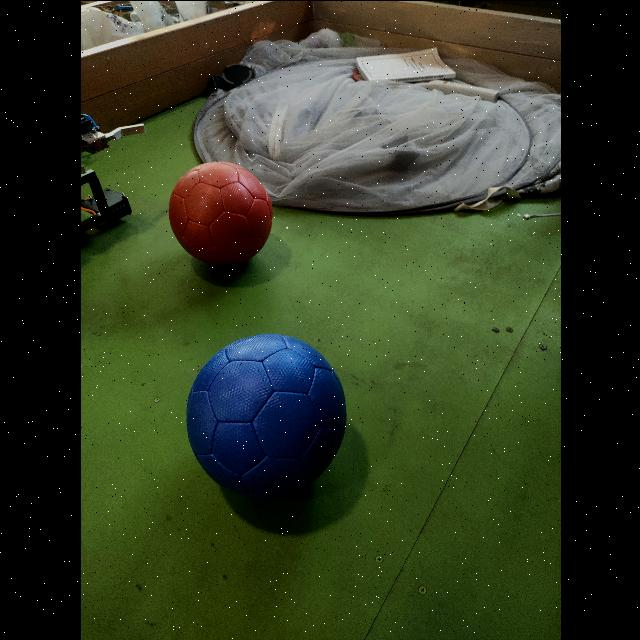B: (185, 332, 345, 499)
R: (169, 161, 271, 265)
